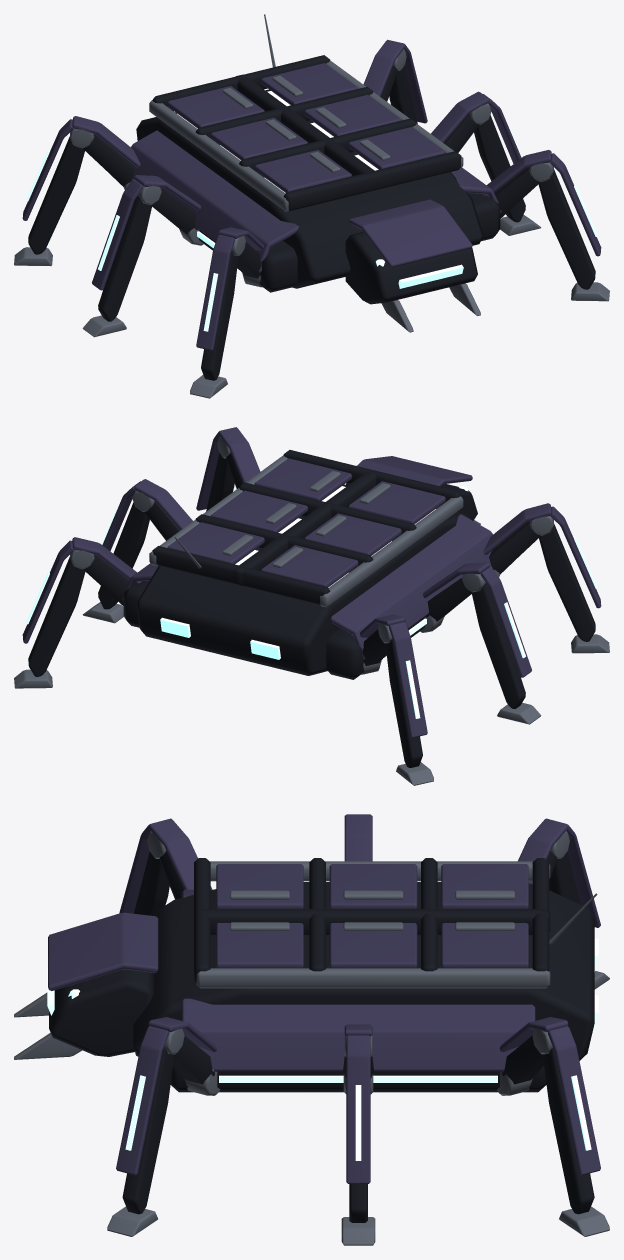
File: enemy_brood.glb
3 renders of one model, top to bottom at view 1: azimuth 30°, elevation 25°; view 2: azimuth 150°, elevation 25°; view 3: azimuth 270°, elevation 25°, orthographic. The views are drawn at different scales.
Parts seen in each view (by area): view 1: body, head, leg_5_lower, leg_1_lower, leg_4_lower, leg_6_lower, leg_6_upper, cell_1, cell_4, cell_5, cell_6, cell_2 (+13 smaller); view 2: body, leg_5_lower, leg_3_lower, leg_6_lower, leg_4_lower, leg_4_upper, cell_1, cell_4, cell_6, cell_2, cell_5, cell_3 (+13 smaller); view 3: body, head, leg_1_lower, leg_3_lower, leg_2_lower, cell_2, cell_1, cell_3, cell_5, cell_4, cell_6, leg_1_upper (+10 smaller).
Boxes of the visible parts, bbox=[...] form: body: bbox=[131, 14, 501, 292]; head: bbox=[345, 199, 480, 332]; leg_5_lower: bbox=[92, 179, 151, 321]; leg_1_lower: bbox=[538, 153, 601, 289]; leg_4_lower: bbox=[196, 234, 238, 380]; leg_6_lower: bbox=[22, 119, 84, 254]; leg_6_upper: bbox=[69, 116, 140, 189]; cell_1: bbox=[348, 127, 445, 169]; cell_4: bbox=[254, 150, 351, 192]; cell_5: bbox=[210, 117, 307, 160]; cell_6: bbox=[167, 86, 264, 128]; cell_2: bbox=[304, 94, 401, 136]; body: bbox=[122, 450, 492, 679]; leg_5_lower: bbox=[472, 566, 531, 708]; leg_3_lower: bbox=[22, 540, 85, 676]; leg_6_lower: bbox=[385, 622, 427, 767]; leg_4_lower: bbox=[539, 506, 601, 641]; leg_4_upper: bbox=[483, 503, 554, 576]; cell_1: bbox=[254, 458, 351, 500]; cell_4: bbox=[348, 481, 445, 524]; cell_6: bbox=[261, 545, 358, 587]; cell_2: bbox=[210, 490, 307, 532]; cell_5: bbox=[304, 513, 401, 555]; cell_3: bbox=[167, 522, 264, 564]; body: bbox=[133, 858, 598, 1092]; head: bbox=[14, 912, 158, 1059]; leg_1_lower: bbox=[116, 1026, 174, 1214]; leg_3_lower: bbox=[542, 1026, 600, 1214]; leg_2_lower: bbox=[346, 1035, 370, 1222]; cell_2: bbox=[329, 922, 417, 968]; cell_1: bbox=[216, 922, 303, 968]; cell_3: bbox=[441, 922, 528, 968]; cell_5: bbox=[329, 864, 417, 908]; cell_4: bbox=[216, 864, 303, 908]; cell_6: bbox=[441, 864, 528, 908]; leg_1_upper: bbox=[148, 1017, 220, 1095].
Size of the model in its own units: 3.58 by 1.42 by 3.2.
